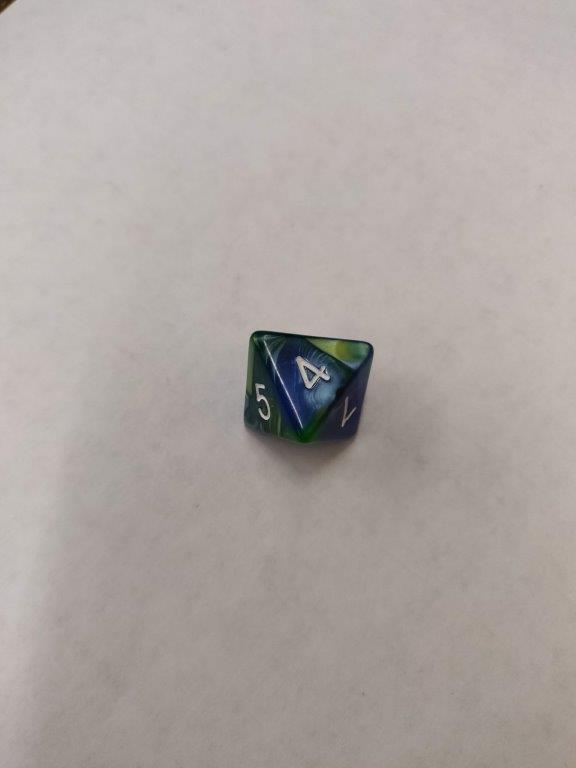d8-4: (240, 328, 376, 449)
